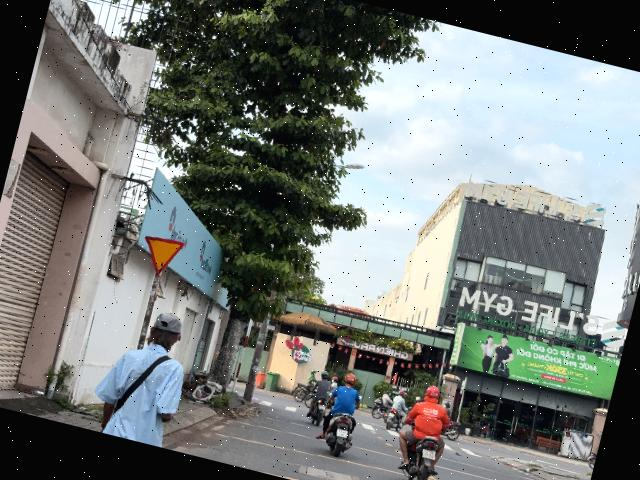giao-nhau-voi-duong-uu-tien: (137, 234, 186, 278)
